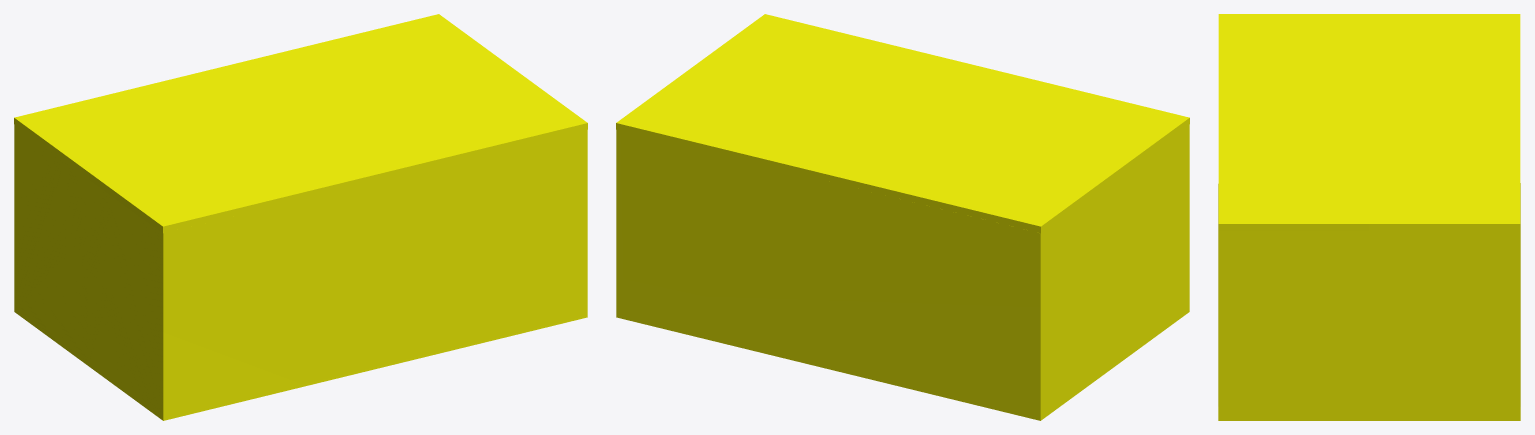
3 renders of one model, left to right at view 1: azimuth 30°, elevation 25°; view 2: azimuth 150°, elevation 25°; view 3: azimuth 270°, elevation 25°, orthographic.
Parts seen in each view (by area): view 1: B1_4x3x1_SH, Back_3, Front_3; view 2: B1_4x3x1_SH, Front_3, Back_3; view 3: B1_4x3x1_SH, Front_3, Back_3.
Boxes of the visible parts, <box> form: B1_4x3x1_SH: <box>14,125,587,420</box>; Back_3: <box>88,68,587,233</box>; Front_3: <box>14,14,512,178</box>; B1_4x3x1_SH: <box>616,125,1189,420</box>; Front_3: <box>616,68,1115,233</box>; Back_3: <box>691,14,1189,178</box>; B1_4x3x1_SH: <box>1218,183,1520,420</box>; Front_3: <box>1369,14,1520,230</box>; Back_3: <box>1218,14,1369,230</box>.
Bounding box in the file's own units: 0.8914 × 0.3897 × 0.5415.
Materials: 1 (1 with a texture image).
